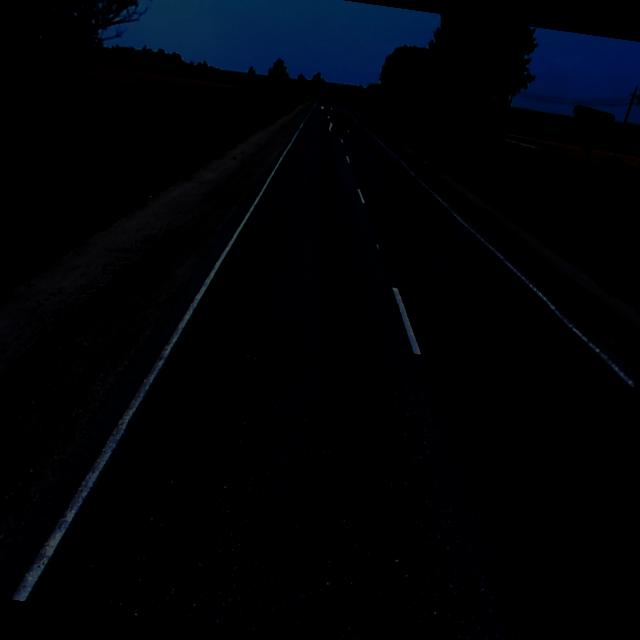road: (0, 102, 635, 640), (333, 103, 345, 111)
